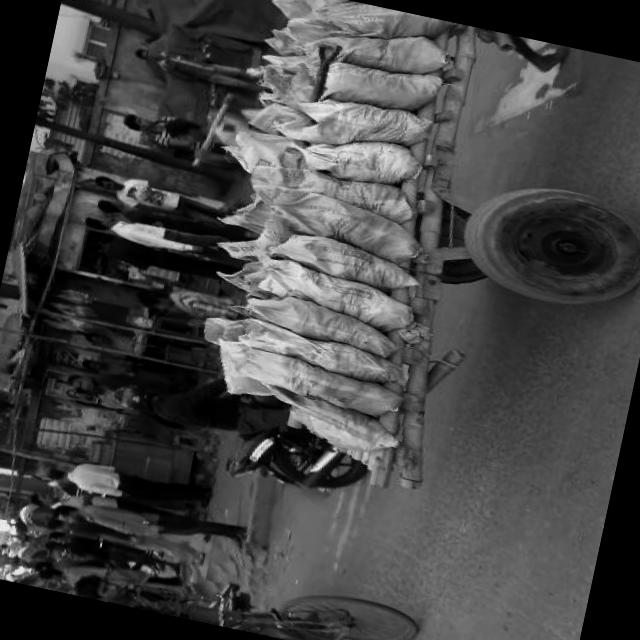motorcycle: (95, 360, 372, 510), (8, 564, 76, 594), (3, 534, 54, 572), (10, 494, 58, 534)
